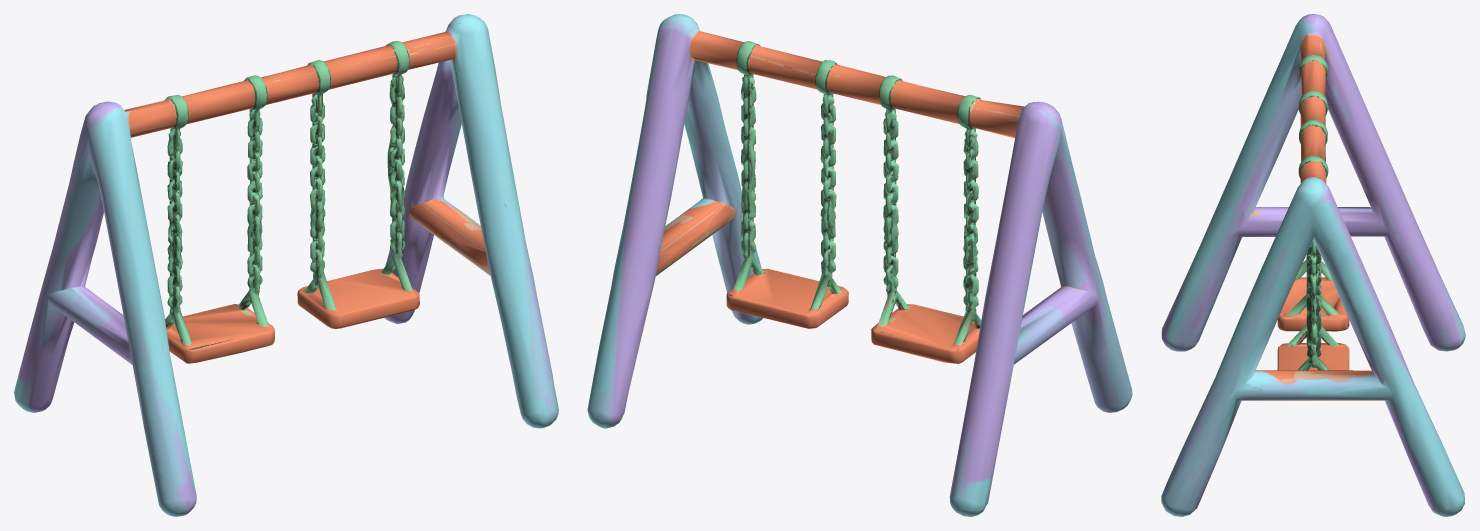
The model's file is play_swing.glb.
3 views of the same model, side by side, from view 1: azimuth 30°, elevation 25°; view 2: azimuth 150°, elevation 25°; view 3: azimuth 270°, elevation 25° (orthographic). The views are drawn at different scales.
Parts seen in each view (by area): view 1: Mesh_0; view 2: Mesh_0; view 3: Mesh_0.
Part boxes in pixels (box(x1,y1,x2,y2)): Mesh_0: box(14, 14, 558, 516); Mesh_0: box(587, 14, 1132, 516); Mesh_0: box(1161, 14, 1465, 516).
Size of the model in its own units: 1.9 by 1.63 by 1.34.
1 material, 1 textured.
